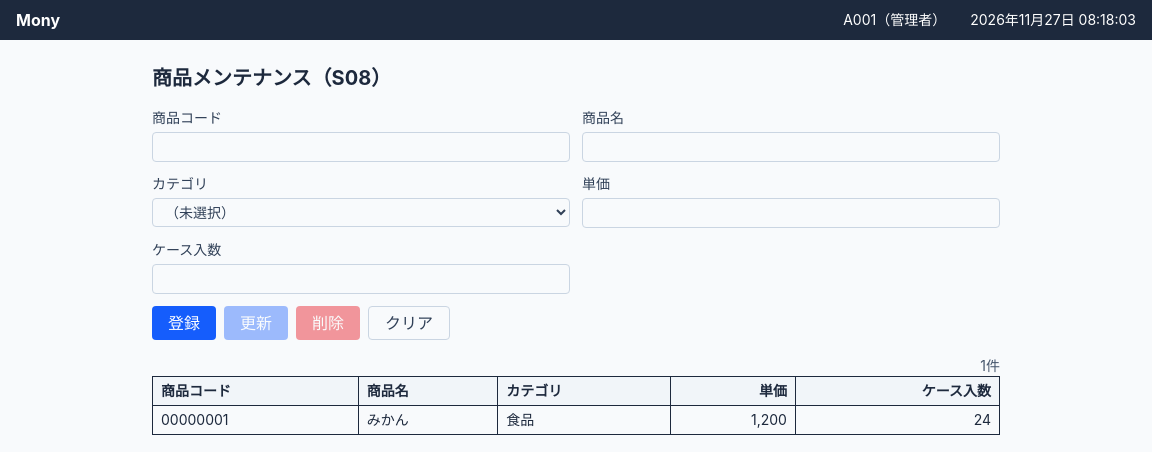
Test case: 削除ボタンの有効・無効 › 選択直後は有効で、入力を変えると無効、元に戻すと有効
Expected: the heading "商品メンテナンス（S08）" is shown, [152,66,391,90]
Click the text "みかん" at {"x": 428, "y": 420}, box [358,406,498,434]
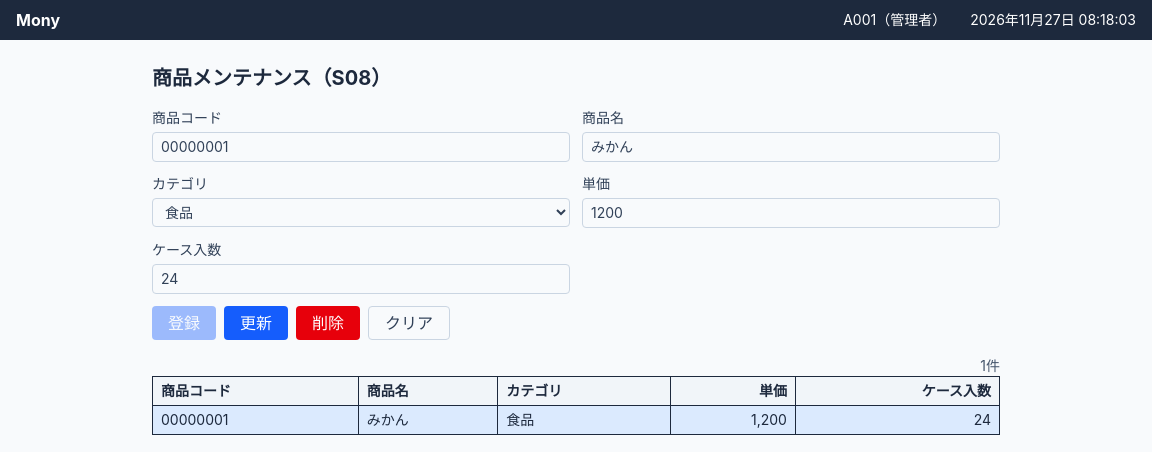
Now the button "削除" is enabled, box [296,306,360,340]
Replace the text in the field labelled "商品名" with "みかんX" at {"x": 791, "y": 147}, box [582,132,1000,162]
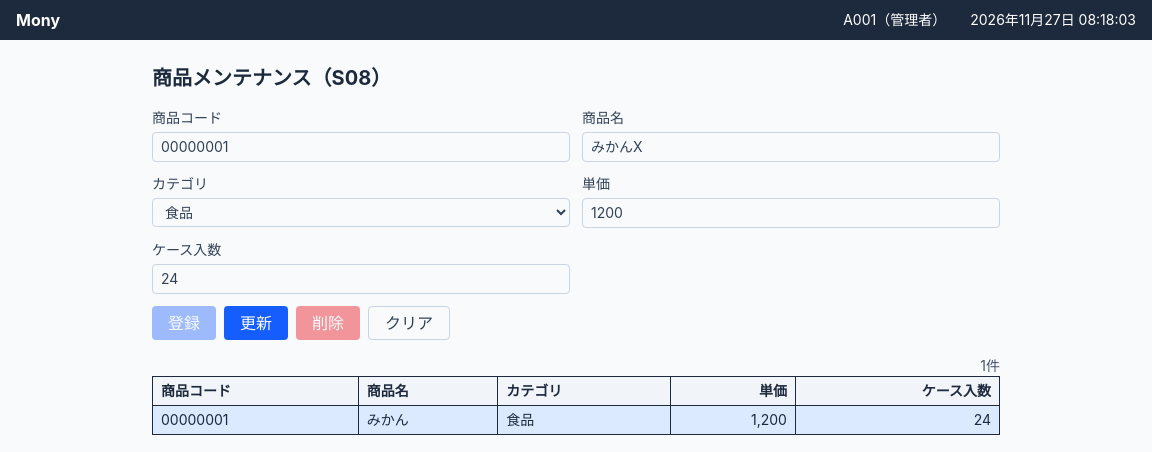
Now the button "削除" is disabled, box [296,306,360,340]
Replace the text in the field labelled "商品名" with "みかん" at {"x": 791, "y": 147}, box [582,132,1000,162]
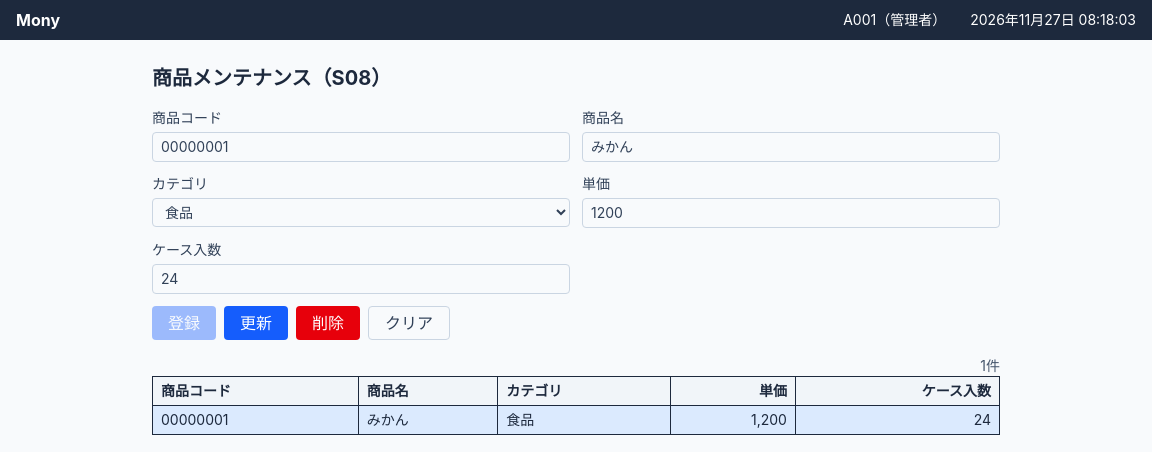
Now the button "削除" is enabled, box [296,306,360,340]
Replace the text in the field labelled "単価" with "1201" at {"x": 791, "y": 213}, box [582,198,1000,228]
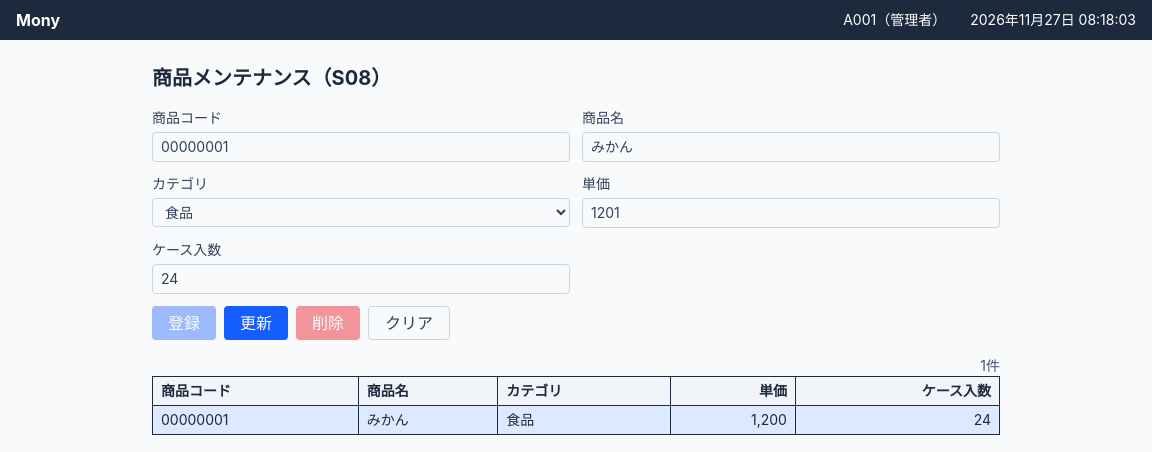
Now the button "削除" is disabled, box [296,306,360,340]
Replace the text in the field labelled "単価" with "1200" at {"x": 791, "y": 213}, box [582,198,1000,228]
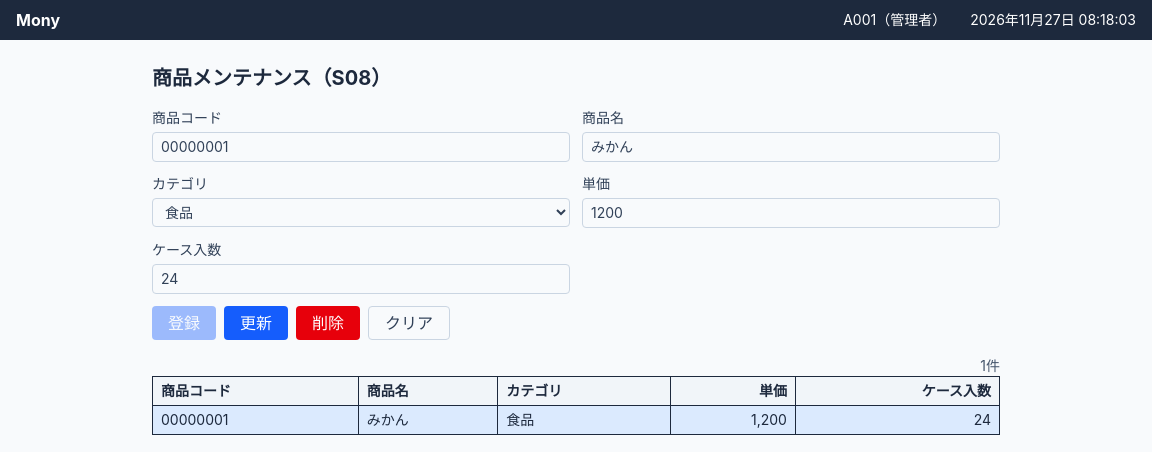
Select "工具" in the dropdown labelled "カテゴリ" at {"x": 361, "y": 212}, box [152,198,570,227]
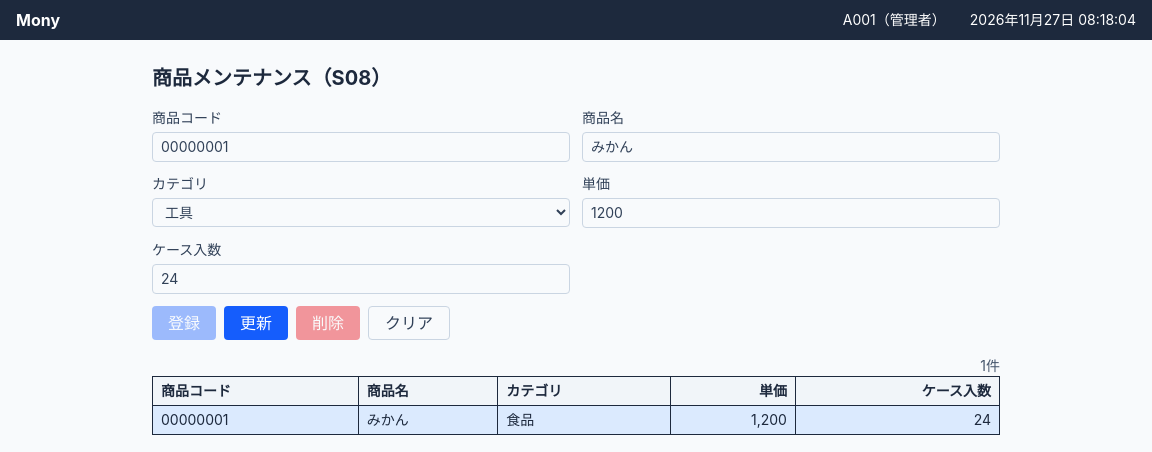
Now the button "削除" is disabled, box [296,306,360,340]
